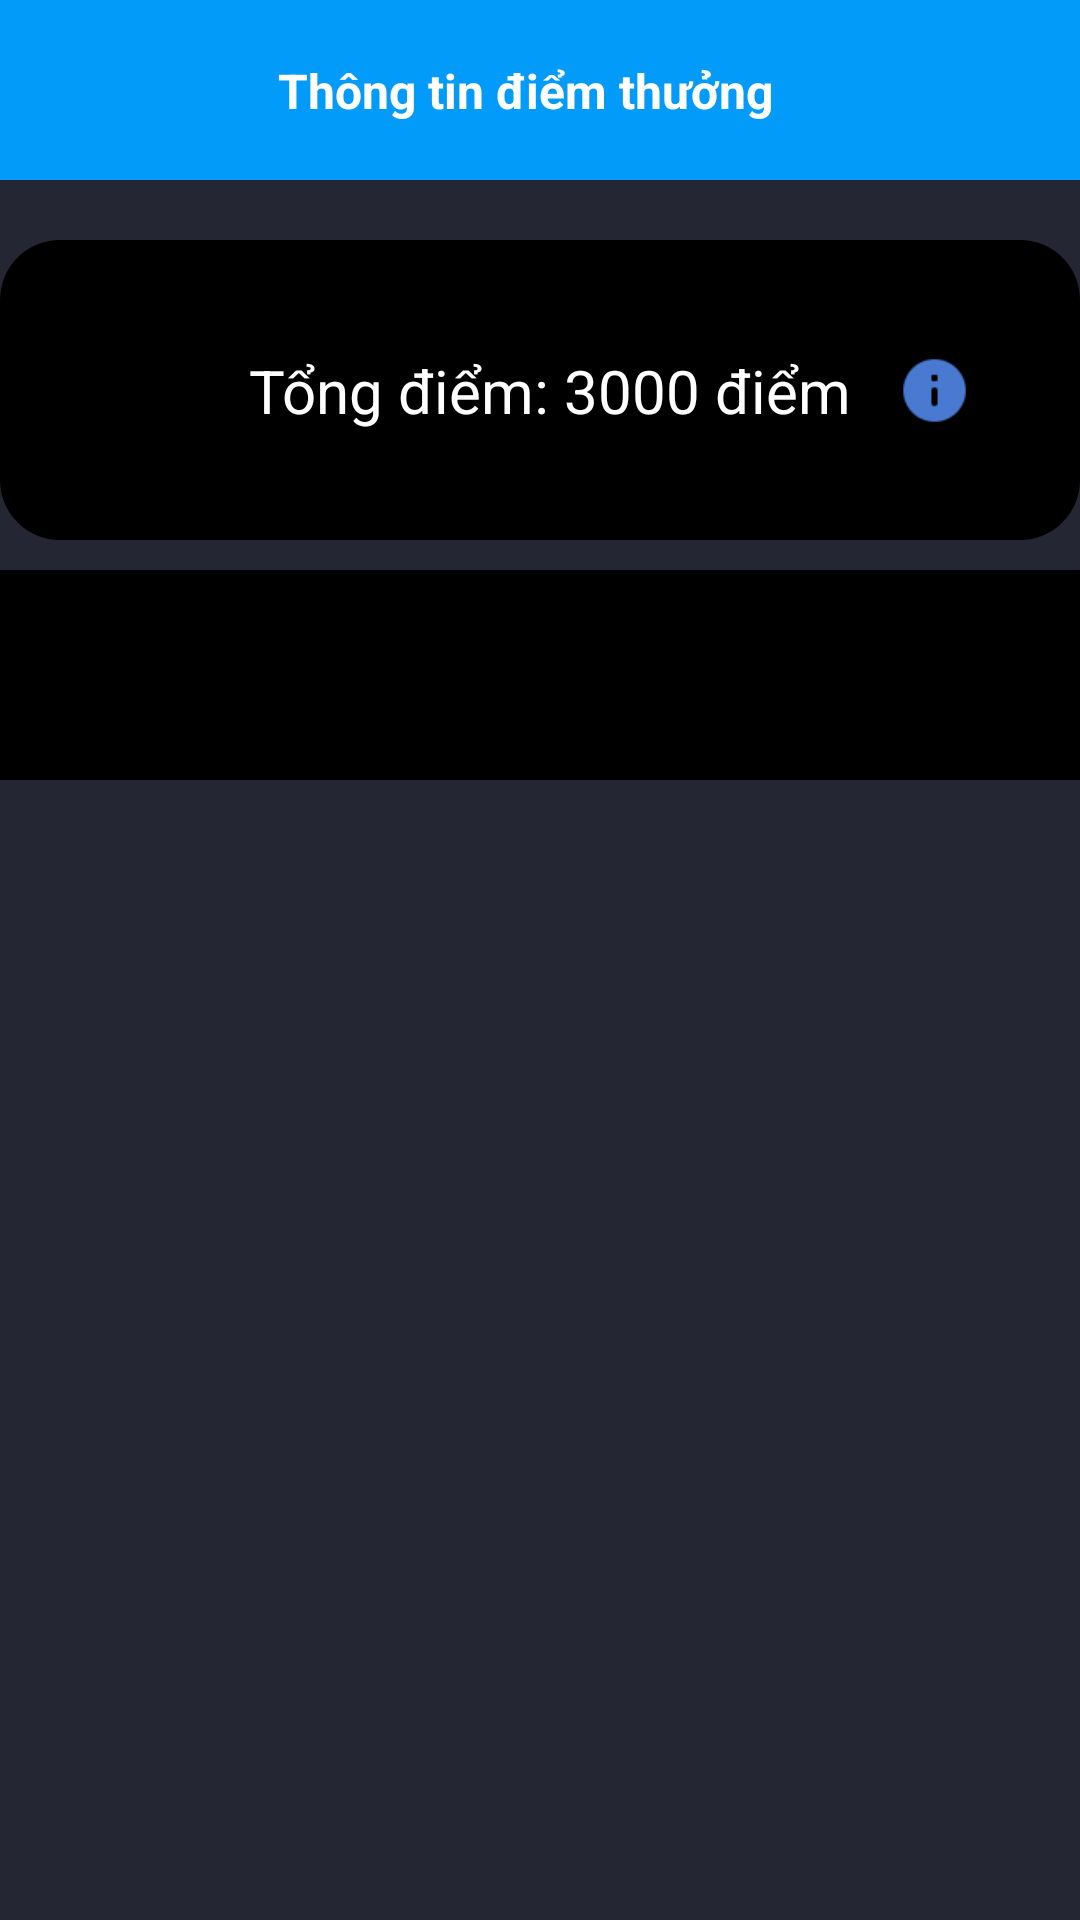

Icons on this 1080×1920 Android screen, each with its box as (left=x1, top=y1, right=x2, bottom=y2):
info: (left=903, top=359, right=966, bottom=422)
